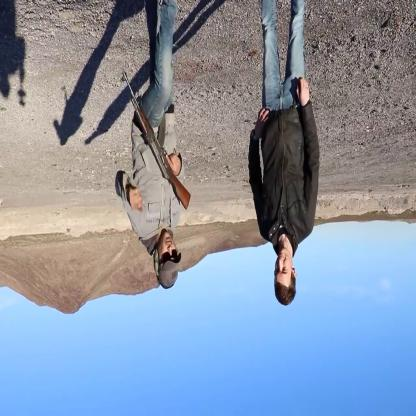long weapon: (112, 68, 198, 214)
